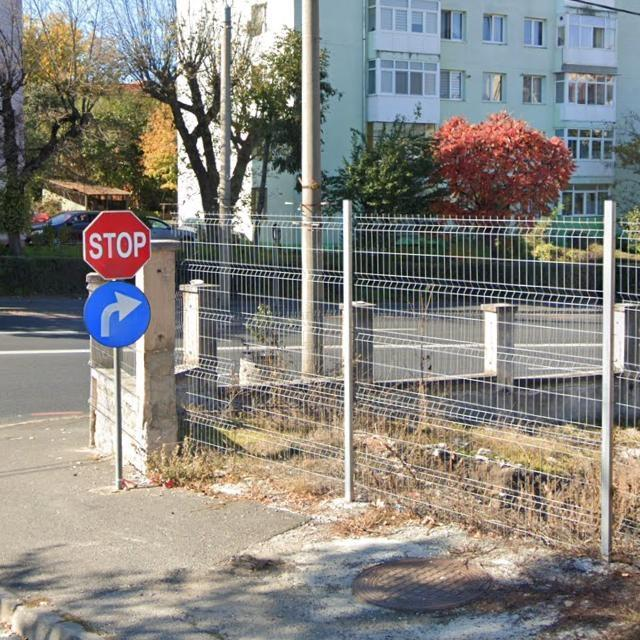prio_stop: (84, 208, 152, 279)
